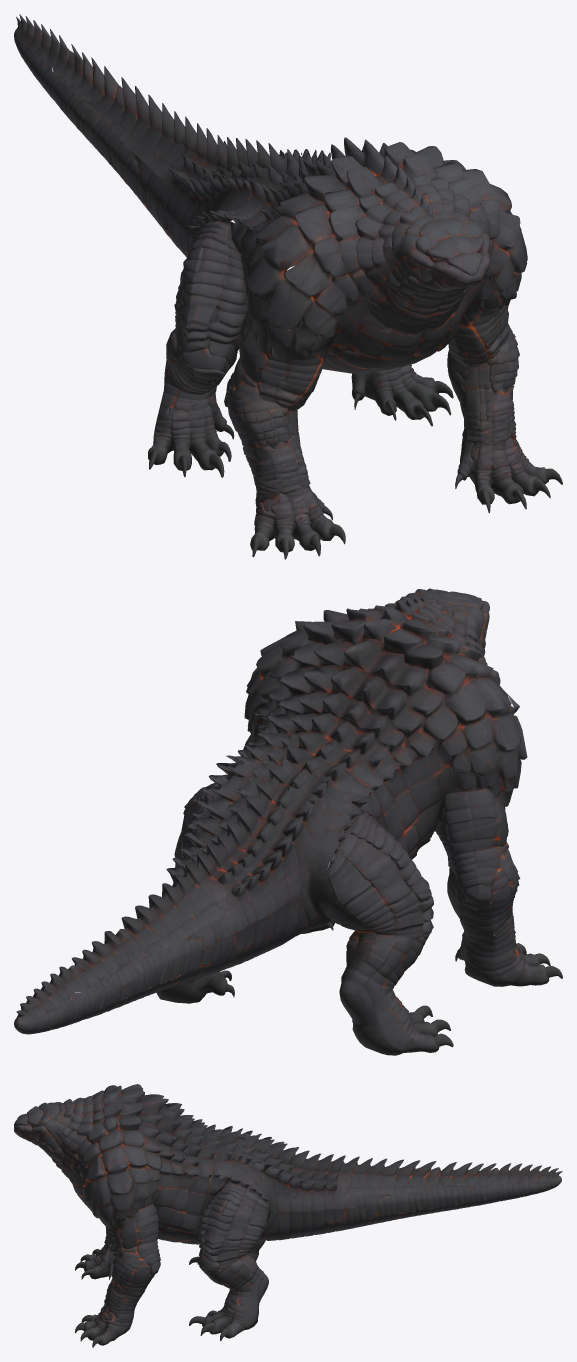
The model's file is ejder_govde2.glb.
3 renders of one model, top to bottom at view 1: azimuth 30°, elevation 25°; view 2: azimuth 150°, elevation 25°; view 3: azimuth 270°, elevation 25°, orthographic. The views are drawn at different scales.
Visible parts, largest first — view 1: tripo_23224c25_a784_4835_93b8_cfae53ae1d27; view 2: tripo_23224c25_a784_4835_93b8_cfae53ae1d27; view 3: tripo_23224c25_a784_4835_93b8_cfae53ae1d27.
Boxes of the visible parts, left/top/right/bottom form: tripo_23224c25_a784_4835_93b8_cfae53ae1d27: left=14, top=14, right=562, bottom=559; tripo_23224c25_a784_4835_93b8_cfae53ae1d27: left=14, top=588, right=562, bottom=1055; tripo_23224c25_a784_4835_93b8_cfae53ae1d27: left=14, top=1084, right=562, bottom=1347.
Size of the model in its own units: 0.3911 by 0.4263 by 0.9995.
Materials: 1 (1 with a texture image).
